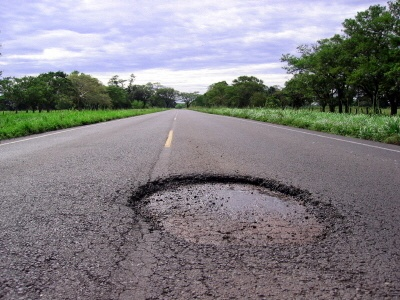pothole: (109, 166, 336, 250)
